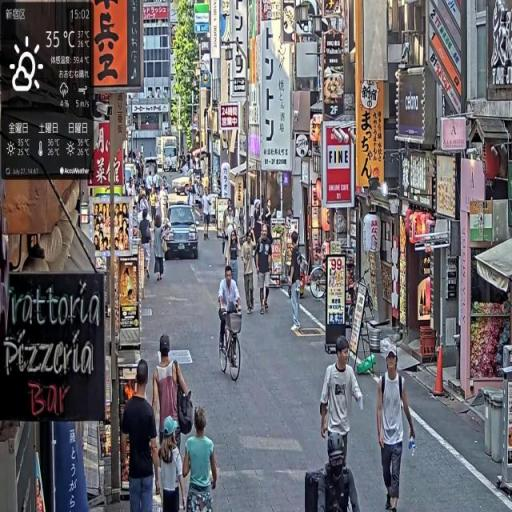person: (376, 346, 418, 512), (320, 334, 367, 468), (120, 359, 161, 511), (155, 333, 194, 468), (184, 407, 220, 512), (155, 416, 186, 512), (217, 265, 243, 371), (256, 223, 275, 316), (241, 229, 259, 316), (290, 230, 303, 334), (141, 209, 152, 280), (155, 215, 165, 282), (229, 230, 240, 289), (203, 187, 213, 242), (226, 209, 235, 268), (224, 197, 235, 234), (265, 197, 275, 237), (160, 185, 170, 224), (256, 200, 263, 245), (150, 188, 158, 225), (199, 180, 205, 222), (189, 187, 197, 214), (140, 195, 150, 214), (189, 178, 197, 199)
